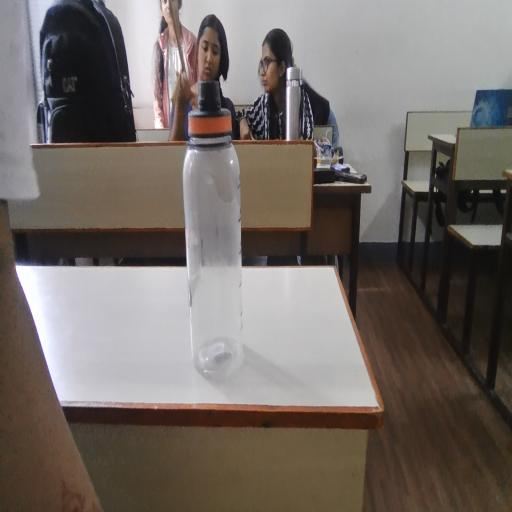Bottle: (180, 72, 261, 368)
